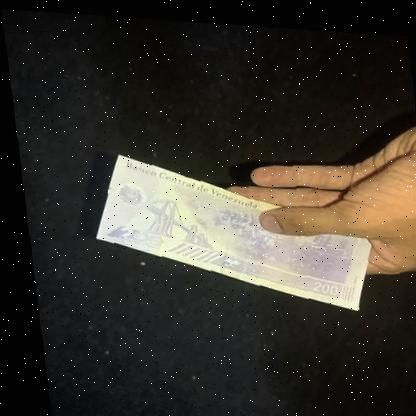two_hundred-back-vef: (81, 148, 373, 307)
